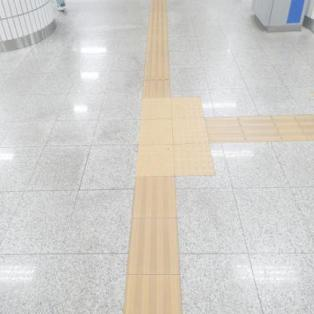Podoctatil: (102, 76, 239, 214), (126, 179, 183, 313), (142, 0, 172, 97), (206, 118, 313, 140)
